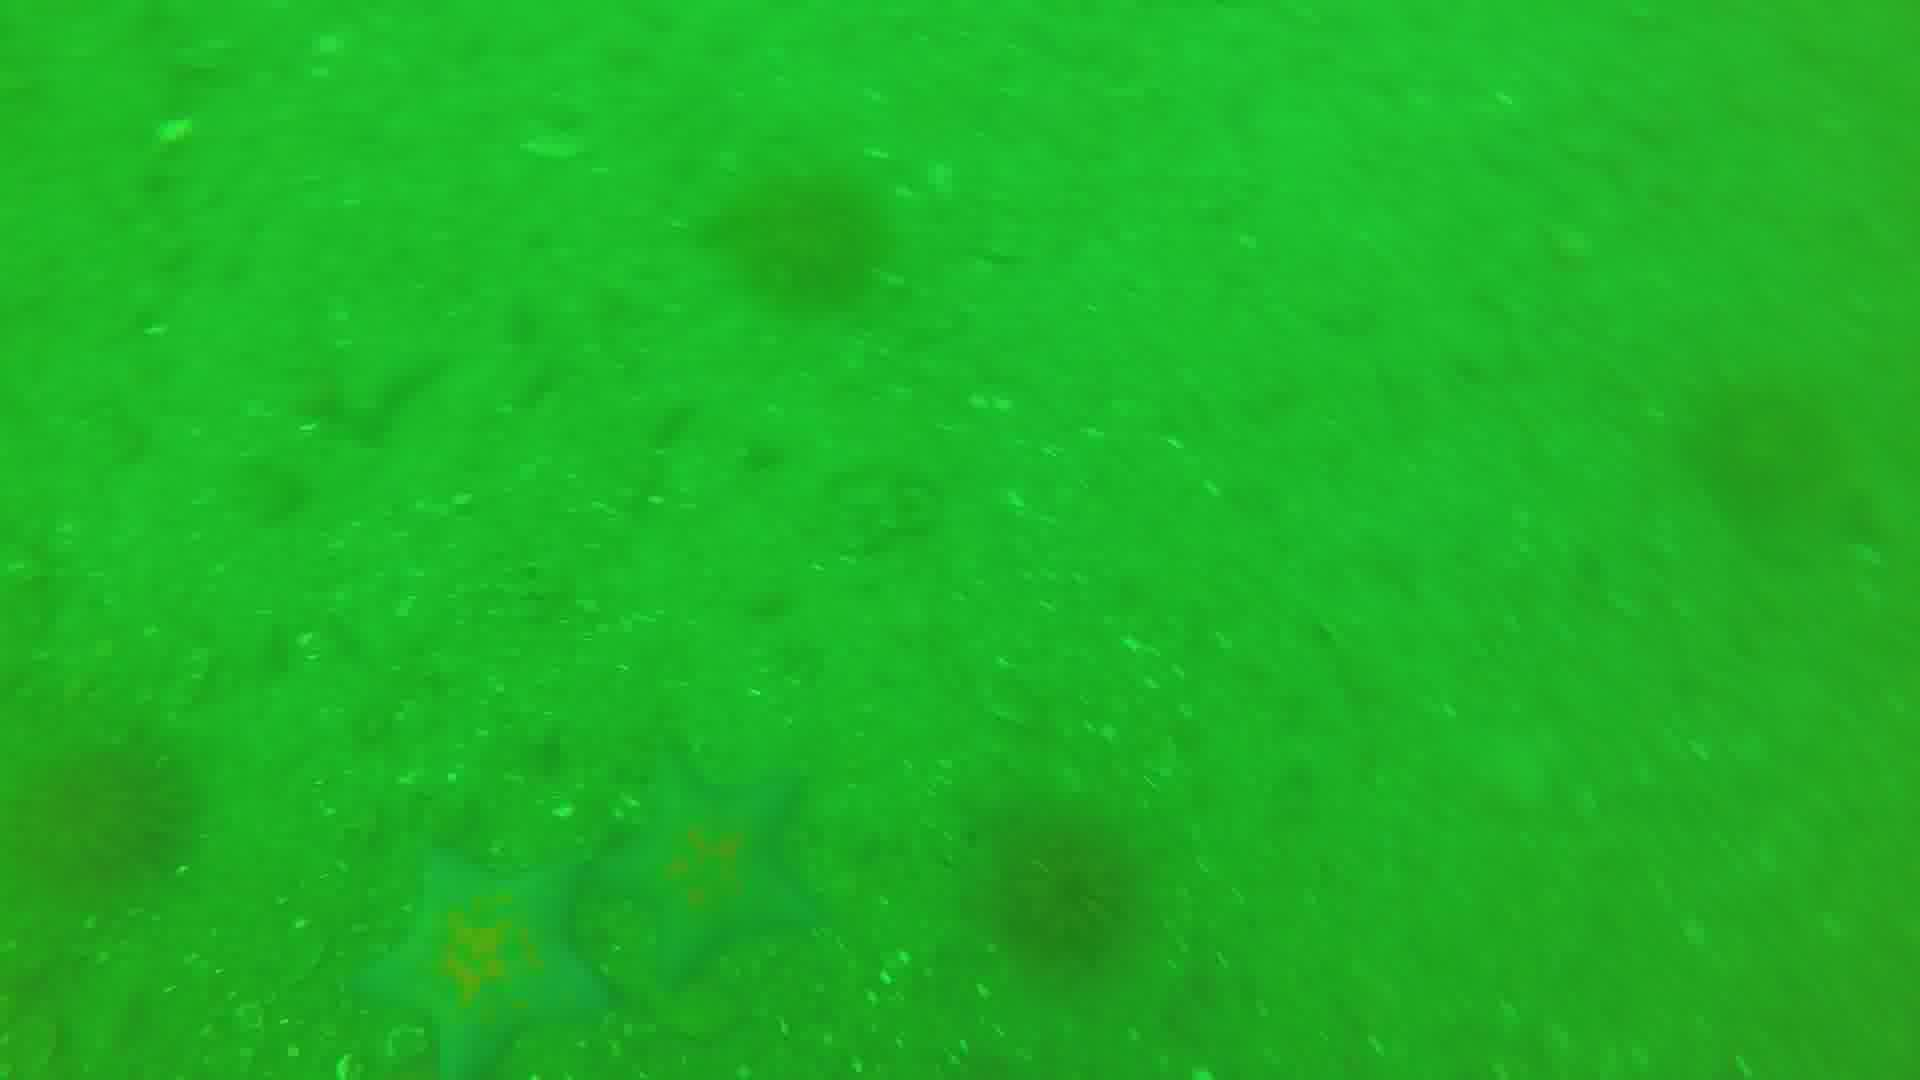echinus: (957, 798, 1151, 960), (32, 725, 191, 880), (700, 177, 877, 289), (1714, 396, 1841, 524)
starfish: (342, 858, 615, 1080), (603, 744, 806, 986)
